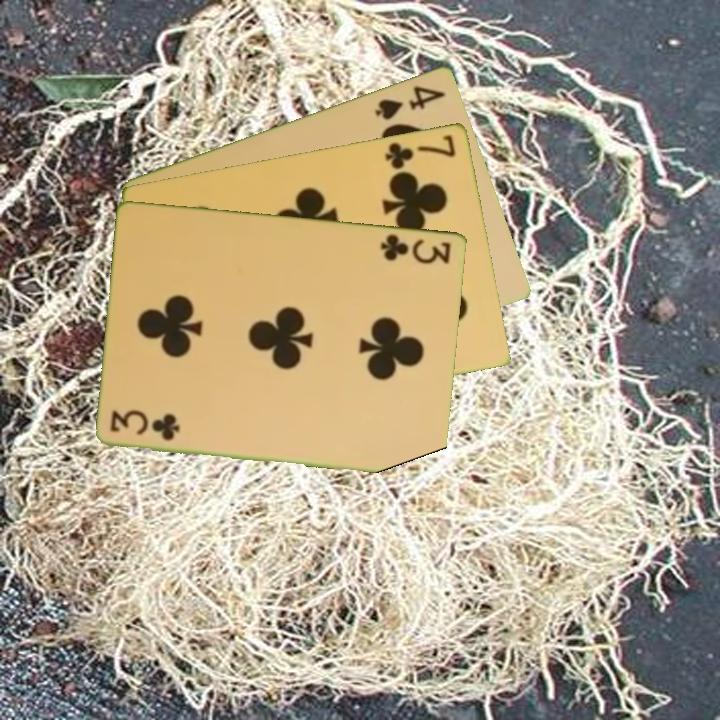3c: (377, 230, 454, 266), (107, 409, 184, 443)
4s: (371, 81, 448, 123)
7c: (381, 130, 459, 172)
